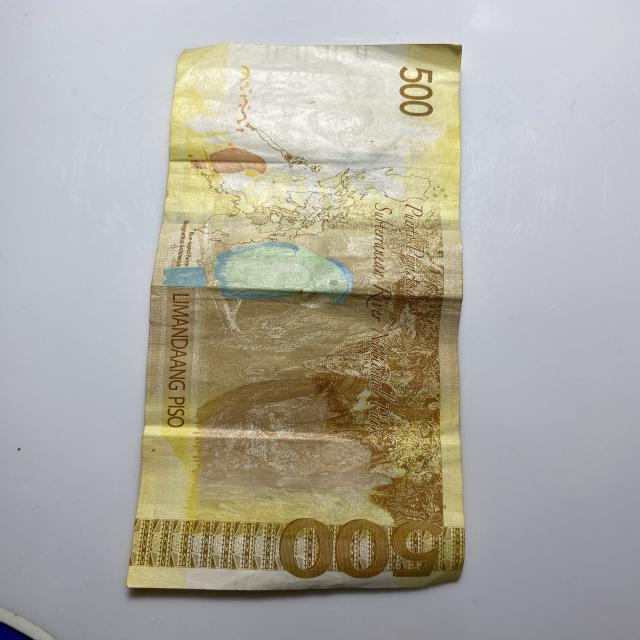500_big_parrot: (164, 241, 358, 313)
500_parrot_watermark: (193, 146, 266, 182)
value_watermark: (279, 64, 329, 82)
